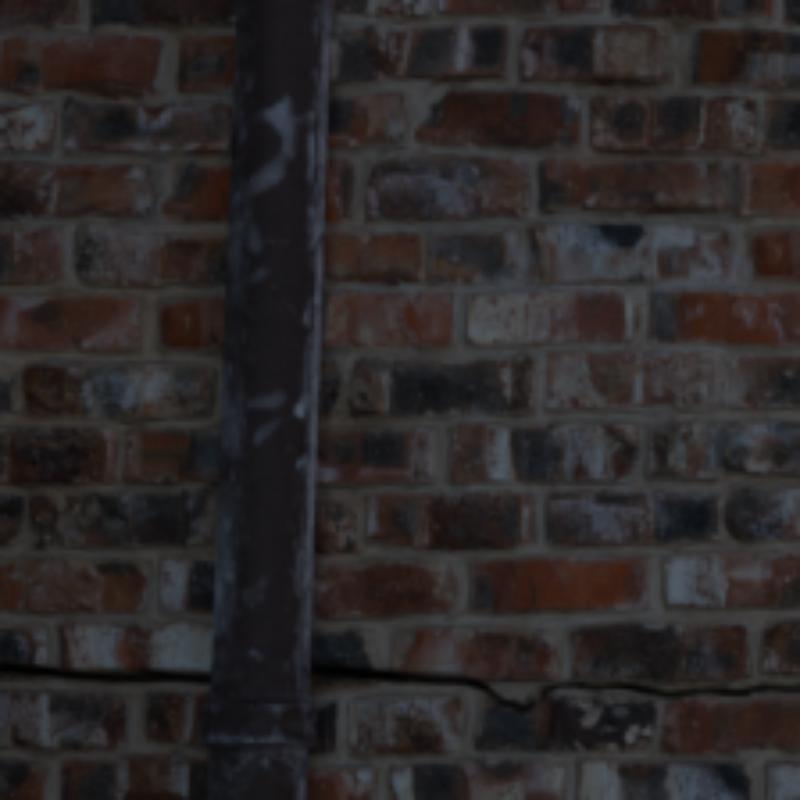pothole: (311, 664, 700, 711), (0, 664, 207, 679)
